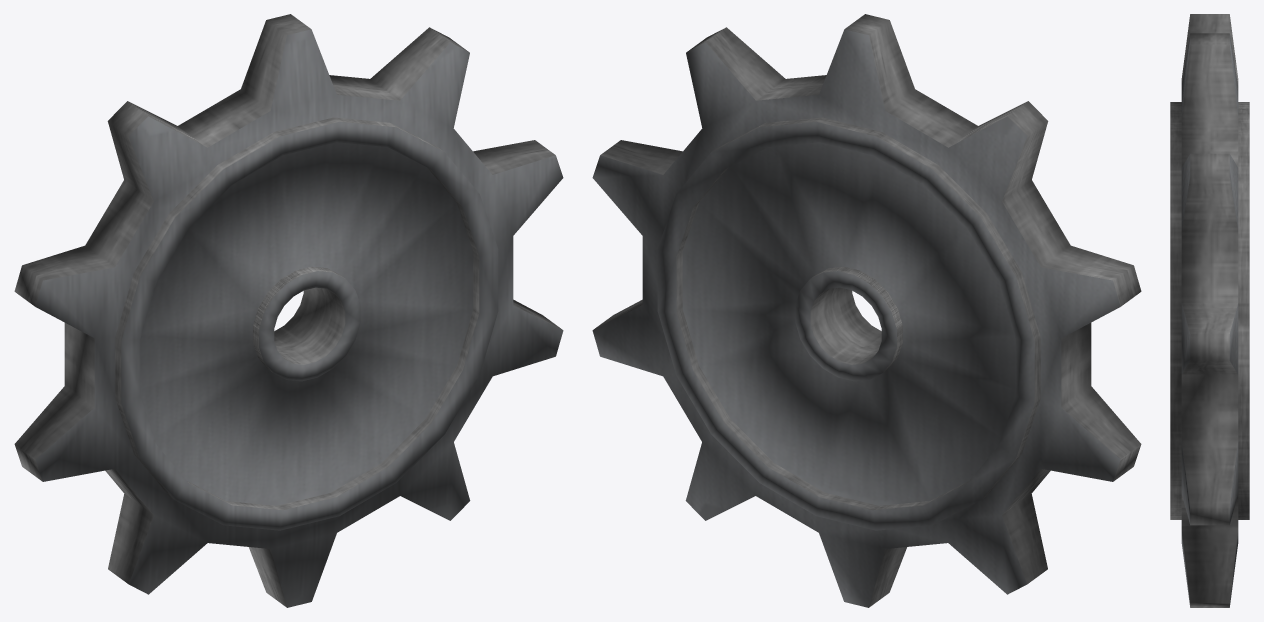
3 renders of one model, left to right at view 1: azimuth 30°, elevation 25°; view 2: azimuth 150°, elevation 25°; view 3: azimuth 270°, elevation 25°, orthographic. The views are drawn at different scales.
Parts seen in each view (by area): view 1: gear_10; view 2: gear_10; view 3: gear_10.
Boxes of the visible parts, x1=… form: gear_10: x1=14, y1=14, x2=563, y2=607; gear_10: x1=592, y1=14, x2=1141, y2=607; gear_10: x1=1170, y1=14, x2=1249, y2=607.
Bounding box in the file's own units: 2.05 × 2.12 × 0.28.
1 material, 1 textured.
